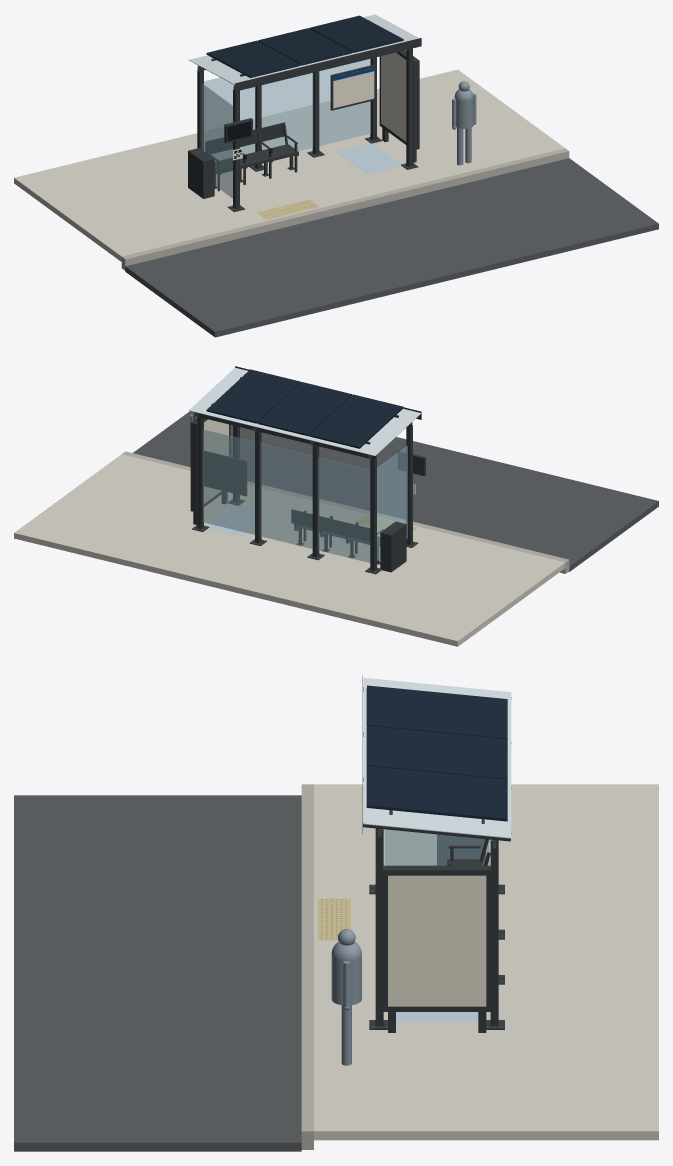
The model's file is essencial-informacao-mupi.glb.
3 renders of one model, top to bottom at view 1: azimuth 30°, elevation 25°; view 2: azimuth 150°, elevation 25°; view 3: azimuth 270°, elevation 25°, orthographic. The views are drawn at different scales.
Visible parts, largest first — view 1: A0-faixa-01, A0-passeio-01, A0-lancil-01, A3.1-vidro-costas-02, A3.1-vidro-costas-03, A3.1-vidro-lateral-01, A3.1-vidro-costas-01, A5.9-mupi-face-01, A5.1-painel-fv-01, A5.1-painel-fv-03, A5.1-painel-fv-02, A4.2-banco-assento-01 (+13 smaller); view 2: A0-passeio-01, A0-faixa-01, A3.1-vidro-costas-01, A3.1-vidro-costas-02, A3.1-vidro-costas-03, A5.1-painel-fv-01, A5.1-painel-fv-03, A5.1-painel-fv-02, A2.1-cobertura-01, A3.1-vidro-lateral-01, A0-lancil-01, A4.3-painel-informacao-01 (+12 smaller); view 3: A0-faixa-01, A0-passeio-01, A5.9-mupi-face-01, A5.1-painel-fv-03, A5.1-painel-fv-02, A5.1-painel-fv-01, A2.1-cobertura-01, A0-lancil-01, A5.9-mupi-01, A3.1-vidro-lateral-01, A0-figura-01, A1.1-pilar-02 (+4 smaller).
Boxes of the visible parts, x1,y1,x2,y2 form: A0-faixa-01: (125,158,658,337); A0-passeio-01: (14,69,564,261); A0-lancil-01: (121,148,569,270); A3.1-vidro-costas-02: (261,73,313,151); A3.1-vidro-costas-03: (319,58,370,145); A3.1-vidro-lateral-01: (202,83,232,198); A3.1-vidro-costas-01: (204,77,255,161); A5.9-mupi-face-01: (381,52,406,141); A5.1-painel-fv-01: (206,40,300,77); A5.1-painel-fv-03: (309,15,403,52); A5.1-painel-fv-02: (258,28,351,65); A4.2-banco-assento-01: (205,122,298,173); A0-passeio-01: (14,454,565,646); A0-faixa-01: (133,411,658,571); A3.1-vidro-costas-01: (318,457,370,562); A3.1-vidro-costas-02: (260,443,312,548); A3.1-vidro-costas-03: (203,429,254,534); A5.1-painel-fv-01: (309,394,403,448); A5.1-painel-fv-03: (206,369,300,423); A5.1-painel-fv-02: (258,382,351,436); A2.1-cobertura-01: (189,367,421,455); A3.1-vidro-lateral-01: (377,445,407,560); A0-lancil-01: (122,451,569,573); A4.3-painel-informacao-01: (204,450,246,496); A0-faixa-01: (14,795,301,1151); A0-passeio-01: (314,784,658,1140); A5.9-mupi-face-01: (388,875,486,1006); A5.1-painel-fv-03: (366,766,507,821); A5.1-painel-fv-02: (366,725,507,779); A5.1-painel-fv-01: (366,685,507,739); A2.1-cobertura-01: (363,677,511,838); A0-lancil-01: (301,784,313,1149); A5.9-mupi-01: (383,865,491,1032); A3.1-vidro-lateral-01: (384,829,489,865); A0-figura-01: (331,929,361,1065); A1.1-pilar-02: (375,834,383,1025).
Size of the model in its own units: 10000 by 3492 by 7850.
